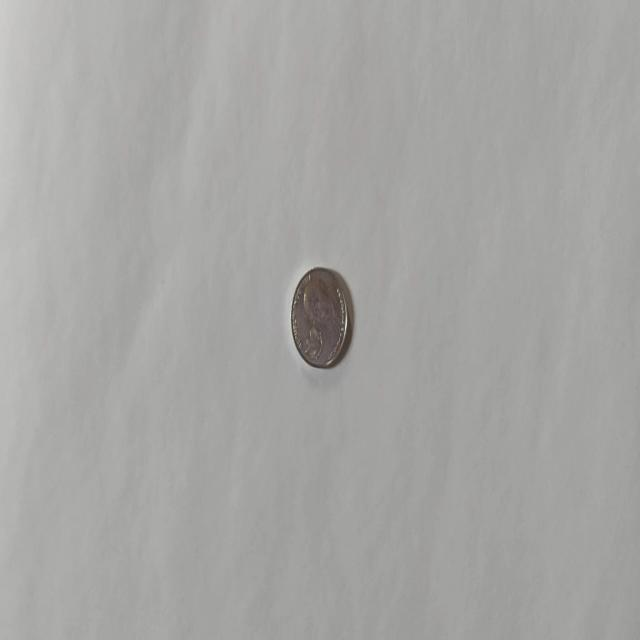lima ratus rupiah: (290, 265, 348, 369)
